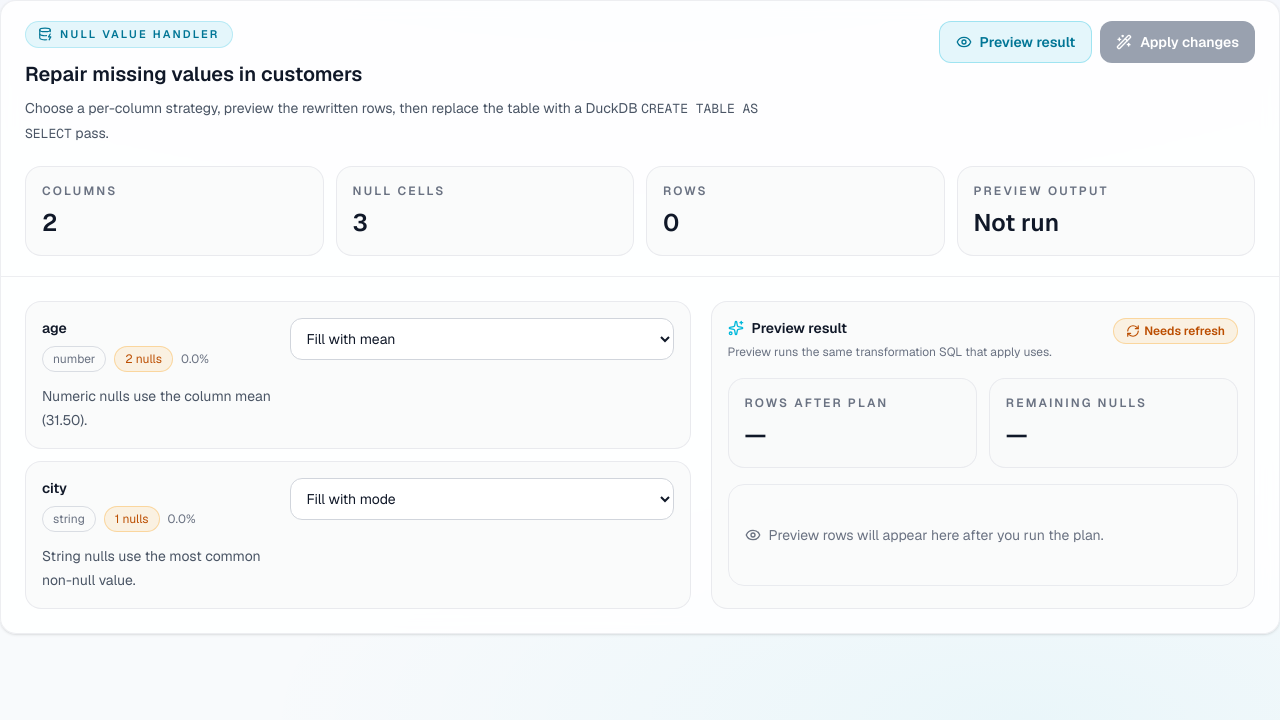
Test: NullHandler › loads preview data and applies the null-handling plan with a table swap
The width and height of the screenshot is (1280, 720).
Expected: the button "Apply changes" is disabled, [1100,21,1255,63]
Click the button "Preview result" at (1015, 42), box [939,21,1092,63]
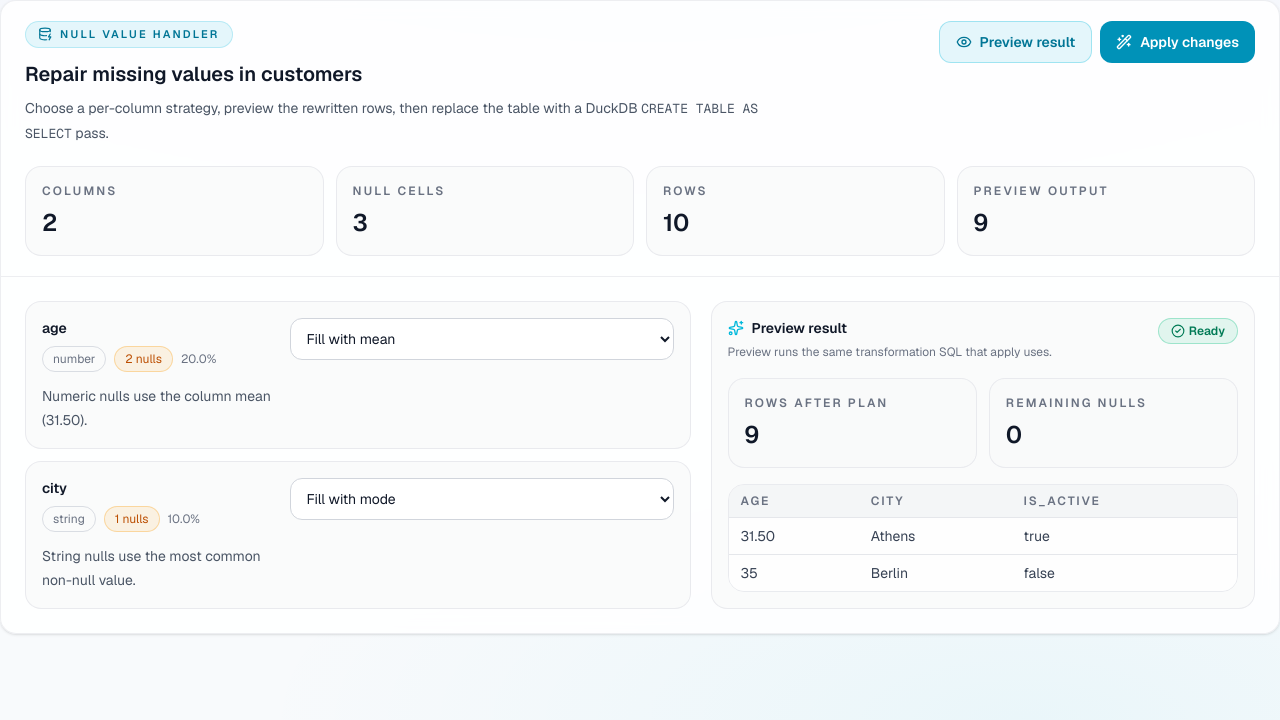
Now the text "Athens" is shown, box [859,518,1012,555]
Now the text "Ready" is shown, box [1158,318,1238,344]
Now the button "Apply changes" is enabled
Click the button "Apply changes" at (1178, 42), box [1100,21,1255,63]
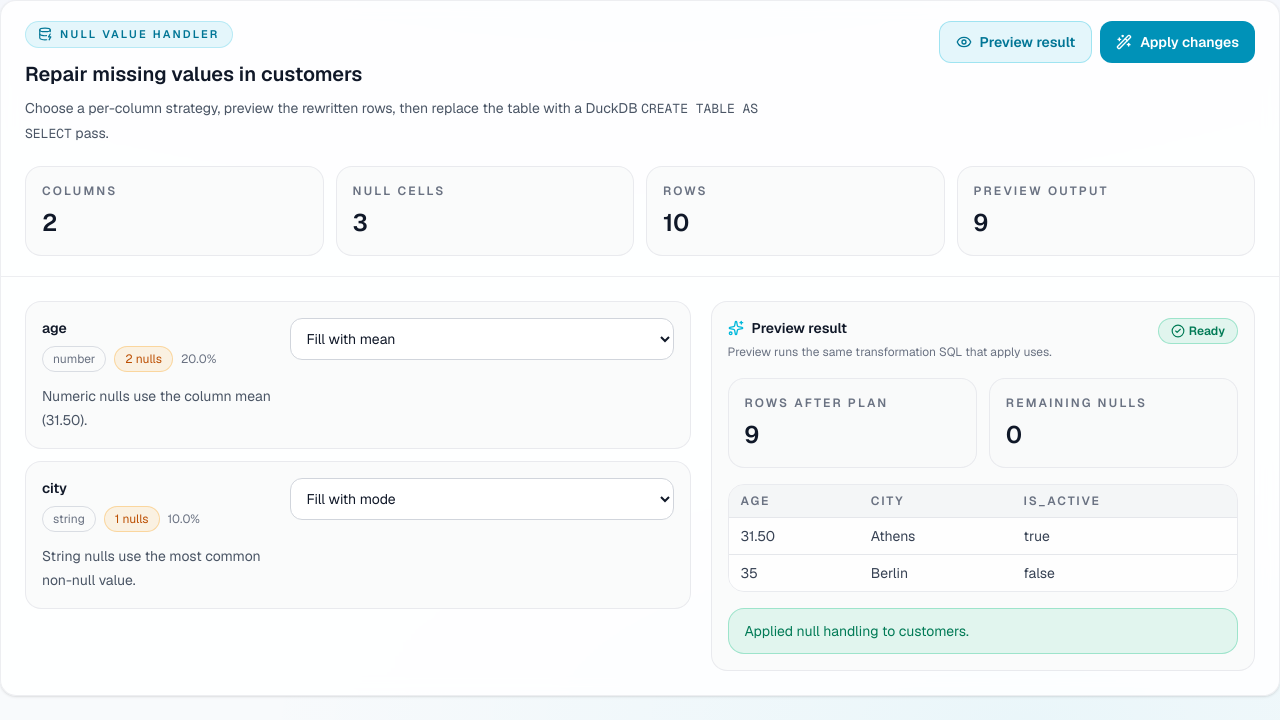
Now the text "Applied null handling to customers." is shown, box [728,608,1238,654]
